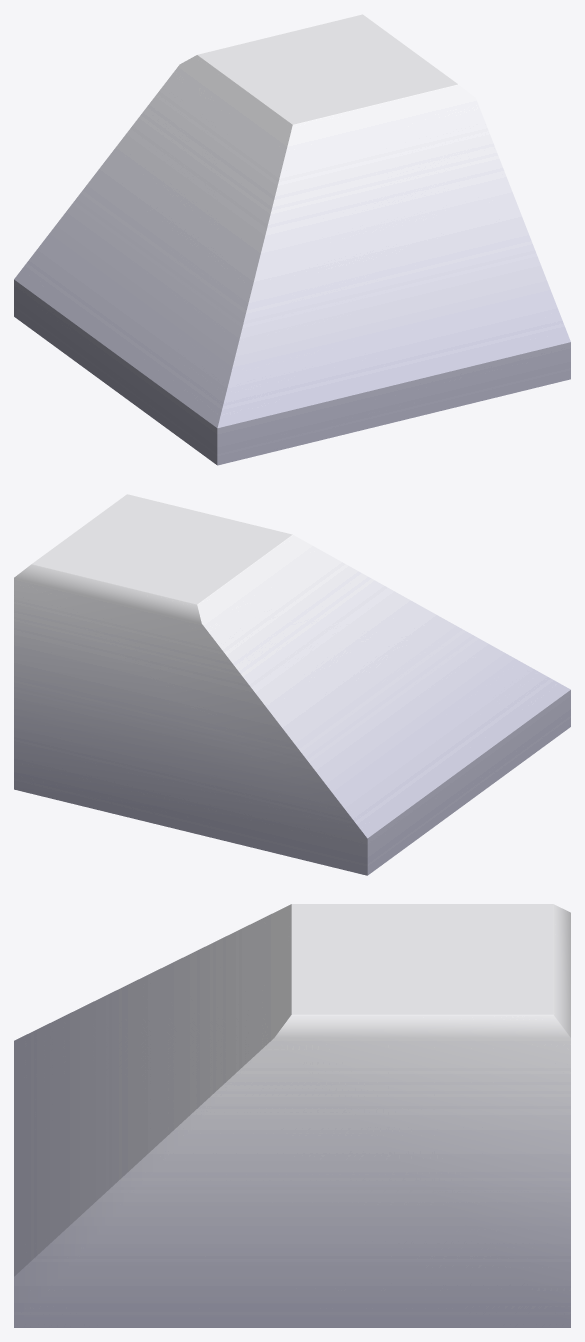
File: brick-kit--none-hq-brick-slope-corner-outside-2x2.glb
The picture shows the model from 3 angles, top to bottom: view 1: azimuth 30°, elevation 25°; view 2: azimuth 150°, elevation 25°; view 3: azimuth 270°, elevation 25°; orthographic projection. The views are drawn at different scales.
Visible parts, largest first — view 1: none-hq-brick-slope-corner-outside-2x2; view 2: none-hq-brick-slope-corner-outside-2x2; view 3: none-hq-brick-slope-corner-outside-2x2.
Part boxes in pixels (x1,y1,x2,y2): none-hq-brick-slope-corner-outside-2x2: [14, 14, 570, 465]; none-hq-brick-slope-corner-outside-2x2: [14, 494, 570, 875]; none-hq-brick-slope-corner-outside-2x2: [14, 904, 570, 1327].
Bounding box in the file's own units: 0.159 × 0.096 × 0.1585.
1 material, 1 textured.
